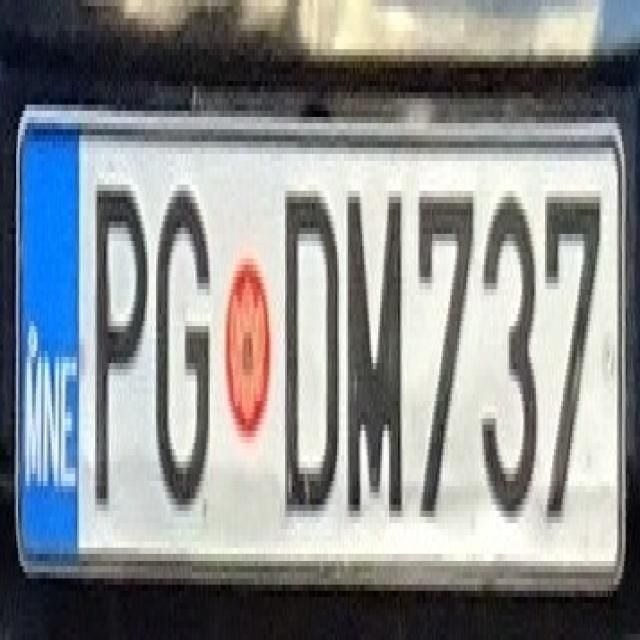3: (476, 172, 542, 517)
7: (408, 166, 476, 523), (540, 166, 606, 523)
D: (278, 172, 344, 517)
G: (149, 166, 217, 511)
M: (341, 166, 408, 523)
P: (86, 160, 152, 517)
